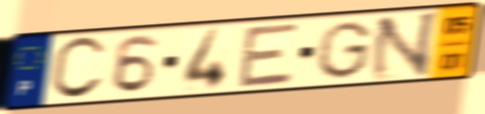4: (180, 25, 230, 93)
6: (108, 33, 161, 96)
C: (47, 34, 109, 103)
E: (235, 20, 303, 91)
G: (313, 19, 375, 81)
N: (367, 9, 444, 84)
